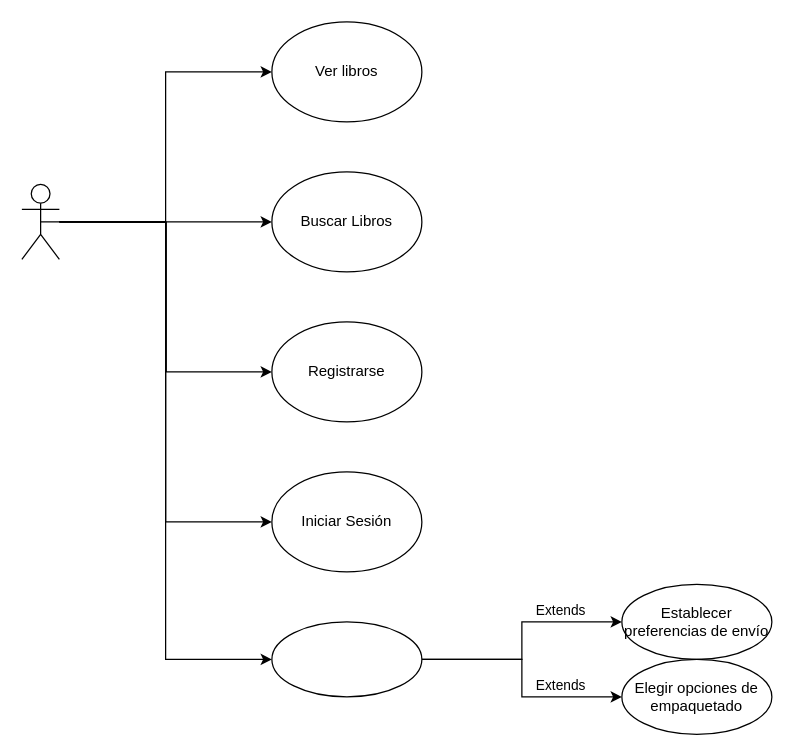
Image size: 794x756. Some labels were removed from this diagram. The shapes that lost their labels are listed below. From the top down, each one's centre as x and y in pixels, then its label:
At point 40,221: "Actor".
At point 346,659: "Realizar Pedido".
